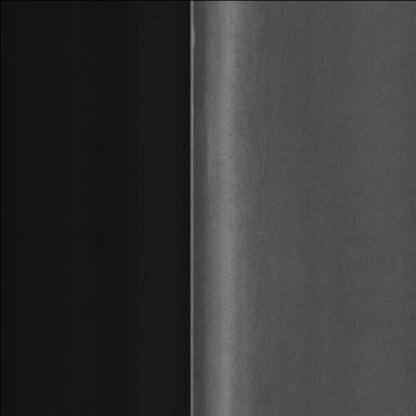silk_spot: (202, 29, 266, 371)
